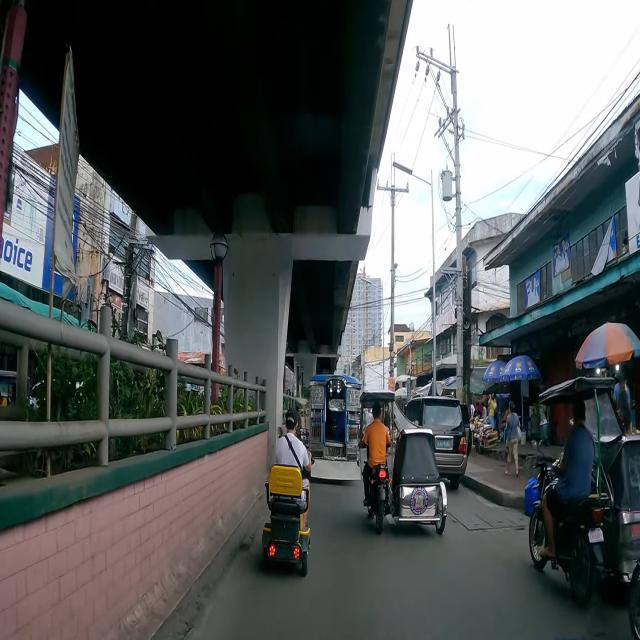car: (404, 396, 468, 489)
jeepney: (308, 374, 362, 482)
tricycle: (528, 376, 640, 604), (359, 392, 447, 534)
